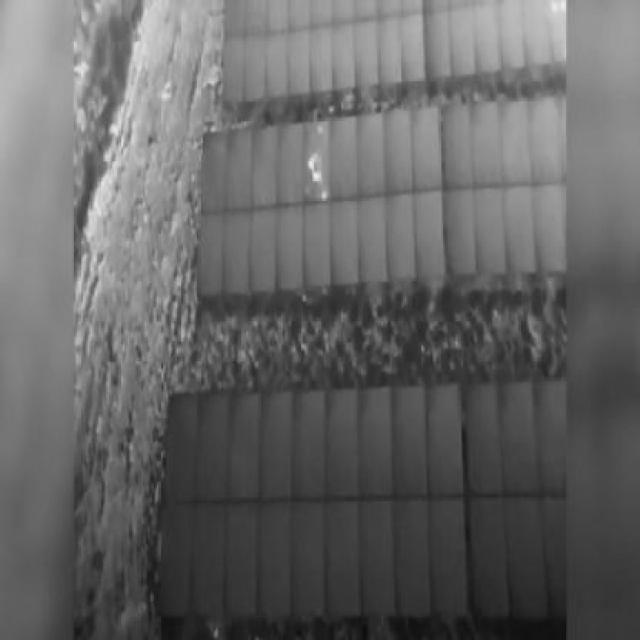hotspot: (302, 155, 316, 171), (310, 170, 322, 184), (318, 188, 329, 202)
